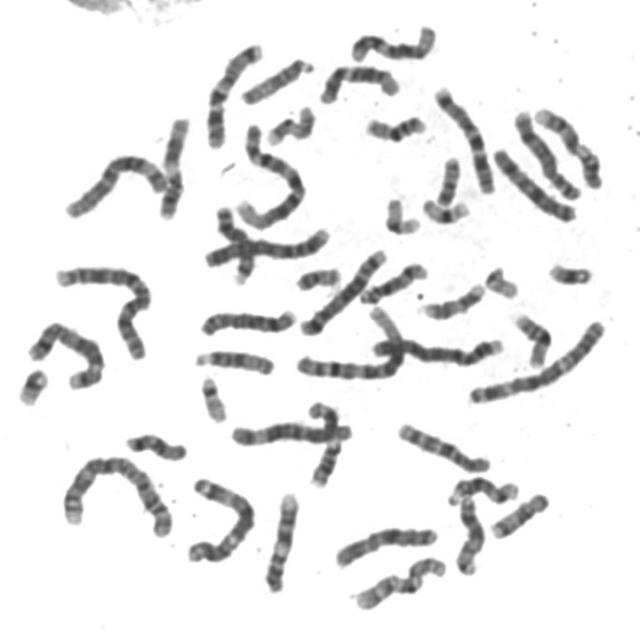A1: (289, 298, 408, 384), (230, 116, 310, 233)
A2: (55, 447, 177, 540), (48, 257, 154, 362)
A3: (461, 314, 608, 406), (178, 470, 258, 566)
B4: (197, 220, 332, 270), (363, 328, 507, 368)
B5: (294, 241, 390, 338), (20, 314, 107, 392)
C10: (348, 549, 450, 613), (390, 416, 494, 476)
C11: (152, 108, 192, 222), (299, 394, 343, 489)
C12: (344, 17, 439, 64), (313, 57, 403, 106)
C6: (58, 146, 169, 221), (223, 413, 354, 449)
C7: (426, 78, 499, 195), (199, 34, 267, 150)
C8: (507, 101, 585, 201), (193, 300, 300, 339)
C9: (528, 101, 606, 191), (257, 485, 302, 594)
D13: (209, 198, 257, 286), (448, 488, 486, 578)
D14: (353, 255, 430, 306), (440, 470, 522, 508)
D15: (235, 50, 317, 106), (188, 342, 276, 378)
E16: (506, 305, 556, 371), (358, 108, 429, 144)
E17: (415, 276, 488, 322), (260, 98, 318, 147)
E18: (485, 486, 552, 540), (120, 426, 189, 463)
F19: (378, 191, 423, 237), (415, 191, 473, 226)
F20: (429, 150, 464, 208), (290, 261, 344, 293)
G21: (10, 360, 51, 408), (542, 256, 596, 288)
G22: (194, 370, 230, 424), (478, 259, 522, 301)
X: (486, 140, 580, 226), (328, 518, 441, 571)
